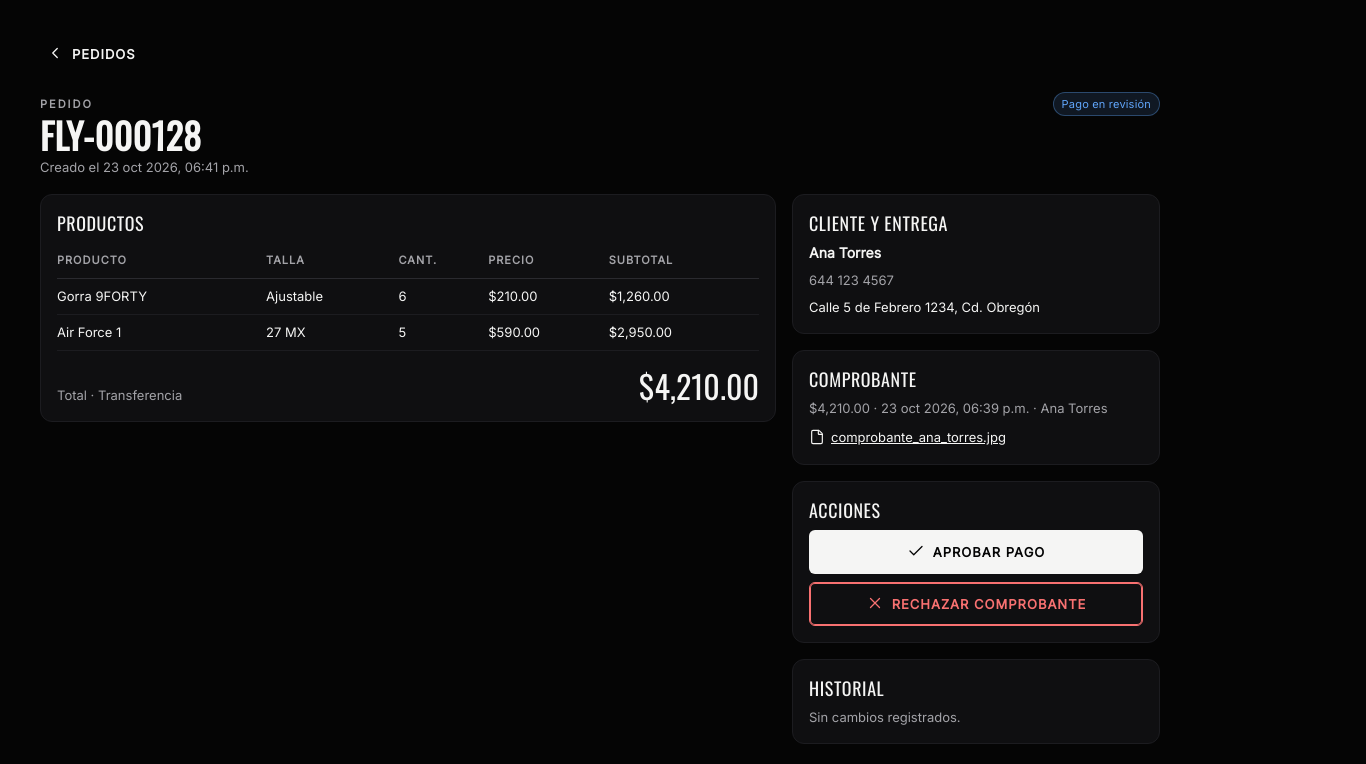
it: DetallePedidoVista · Front 3 · validar pago › aprueba el pago tras confirmar y el pedido pasa a «En preparación»
Check: the heading "FLY-000128" is shown, box x1=40 y1=108 x2=201 y2=161
Click the button "Aprobar pago".
click(976, 552)  # box x1=809 y1=530 x2=1143 y2=574
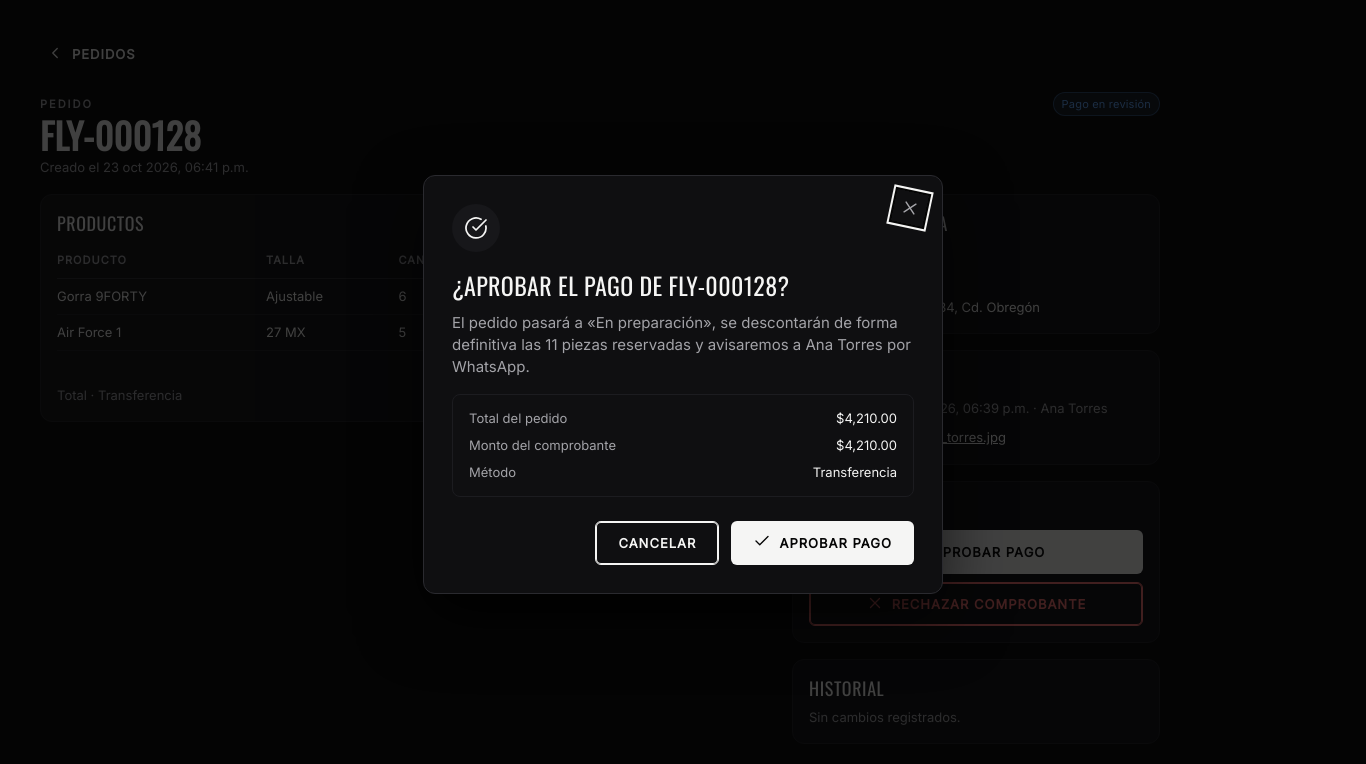
Check: the text "El pedido pasará a «En preparación», se descontarán de forma definitiva las 11 piezas reservadas" is shown, box x1=452 y1=312 x2=914 y2=378
Click the button "Aprobar pago".
click(823, 542)  # box x1=731 y1=520 x2=914 y2=564
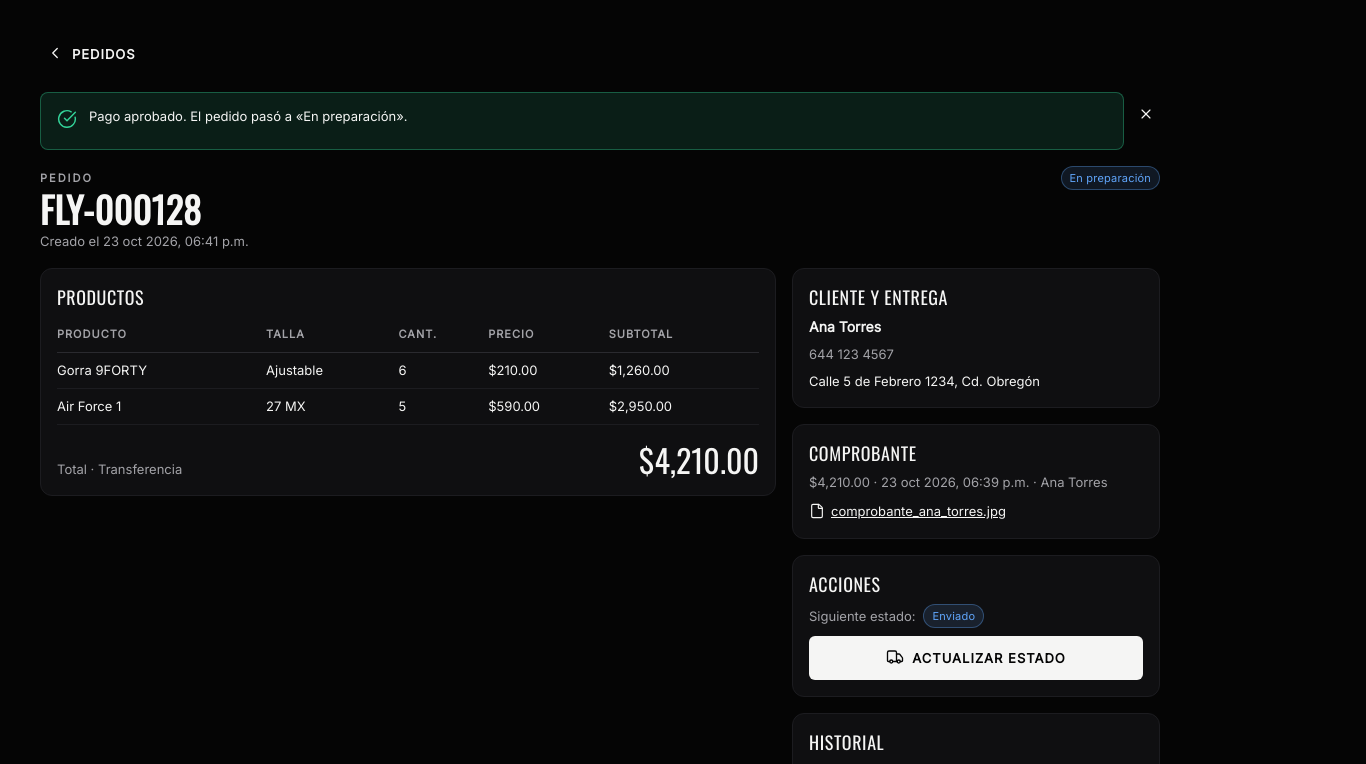
Check: the text "Pago aprobado. El pedido pasó a «En preparación»." is shown, box x1=89 y1=108 x2=408 y2=124
Check: the text "En preparación" is shown, box x1=1060 y1=166 x2=1160 y2=190
Check: the button "Actualizar estado" is shown, box x1=809 y1=636 x2=1143 y2=680
